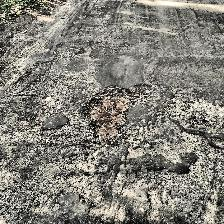pothole: (82, 82, 154, 144)
